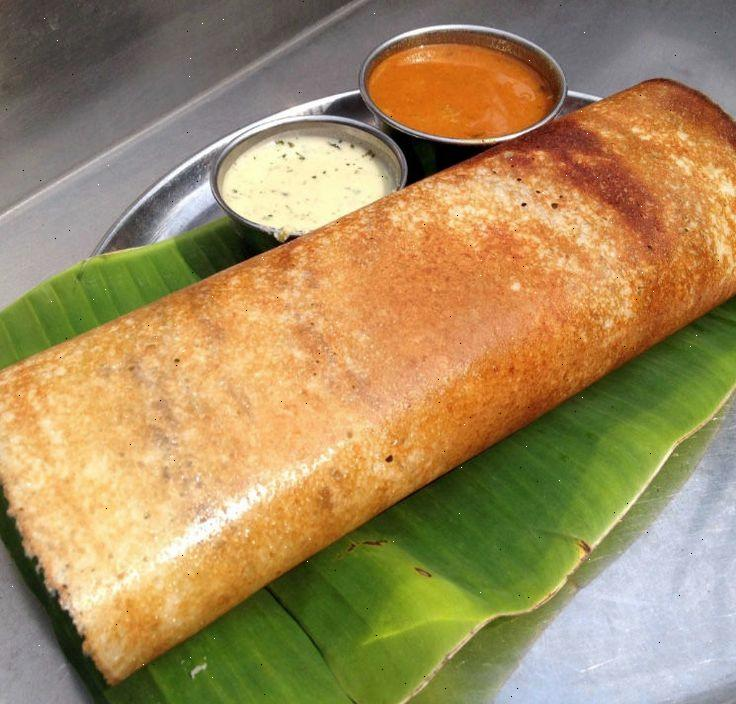dosa: (14, 122, 736, 672)
